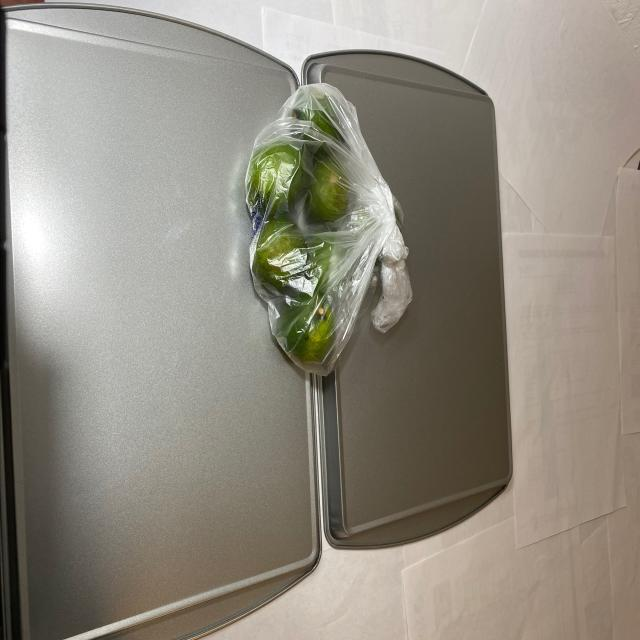lemon: (247, 82, 354, 389)
